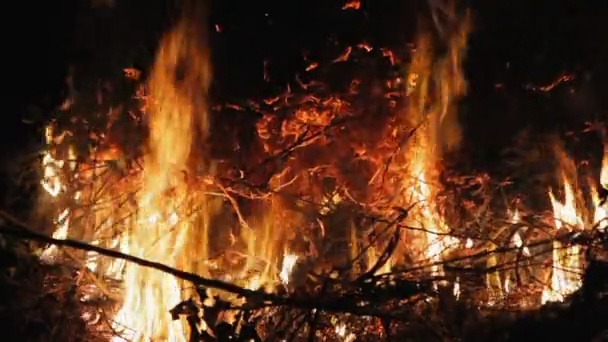fire: (39, 39, 215, 342), (375, 130, 455, 277), (538, 169, 585, 306), (233, 241, 298, 292), (591, 148, 608, 230), (505, 208, 530, 259)
